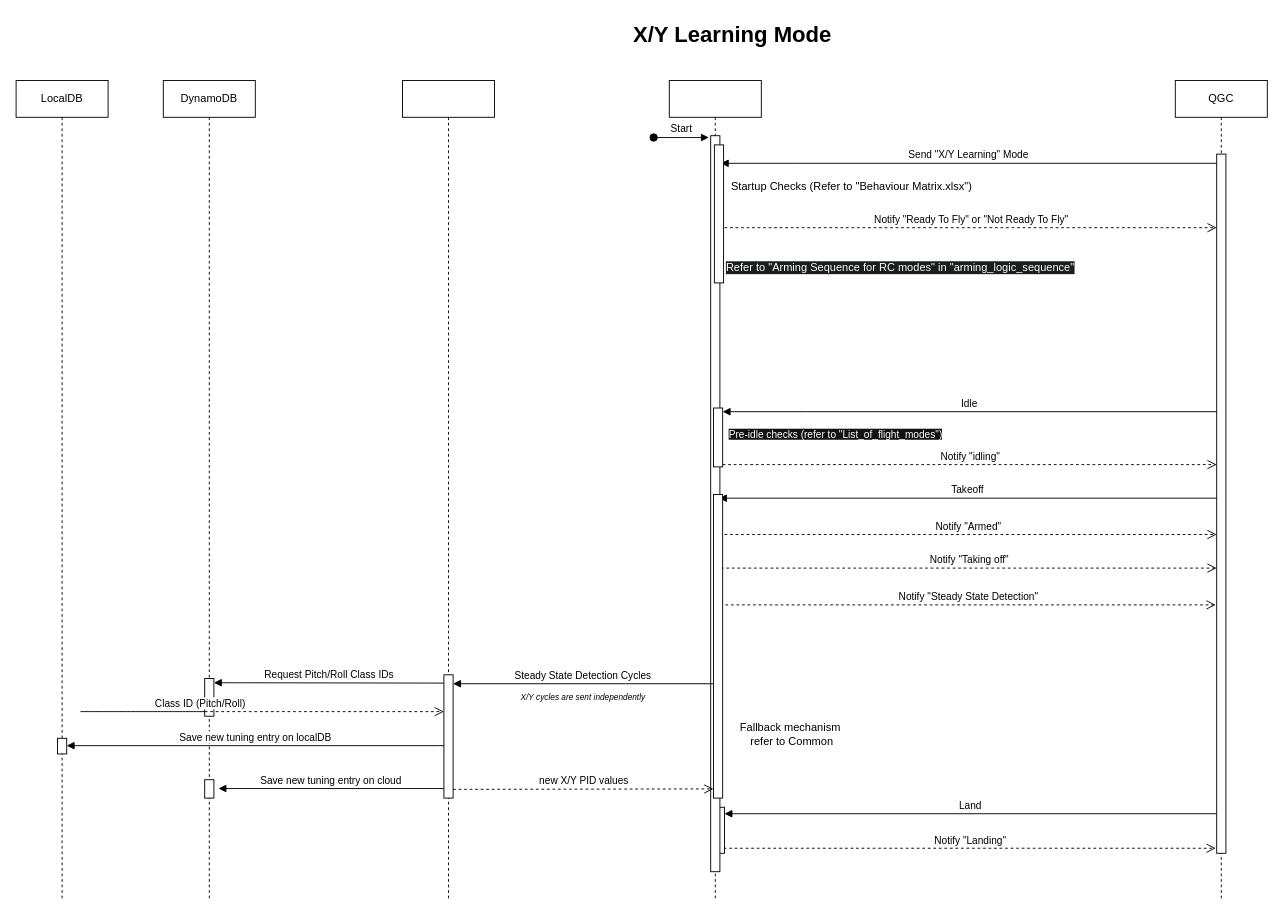
Some shapes in this 1283 by 915 pixel diagram are drawn without their labels. The box of each missing label's shape, as (x1, y1, x2, y2) in pixels:
Lambda: (402, 80, 494, 899)
LeafFC: (668, 80, 761, 899)
